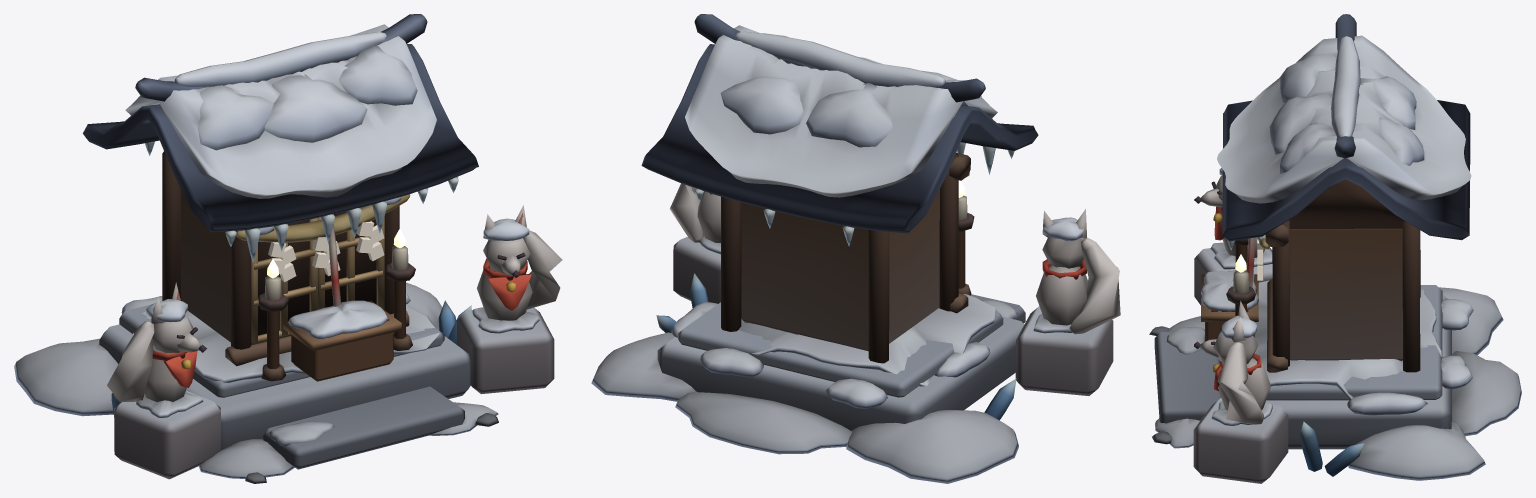
File: dg-onsen-snowHokora.glb
3 renders of one model, left to right at view 1: azimuth 30°, elevation 25°; view 2: azimuth 150°, elevation 25°; view 3: azimuth 270°, elevation 25°, orthographic. The views are drawn at different scales.
Visible parts, largest first — view 1: body, cloth; view 2: body; view 3: body.
Part boxes in pixels (x1,y1,x2,y2): body: [14, 14, 562, 483]; cloth: [268, 221, 384, 282]; body: [591, 14, 1120, 483]; body: [1149, 14, 1521, 483].
Size of the model in its own units: 2.55 by 1.86 by 1.95.
